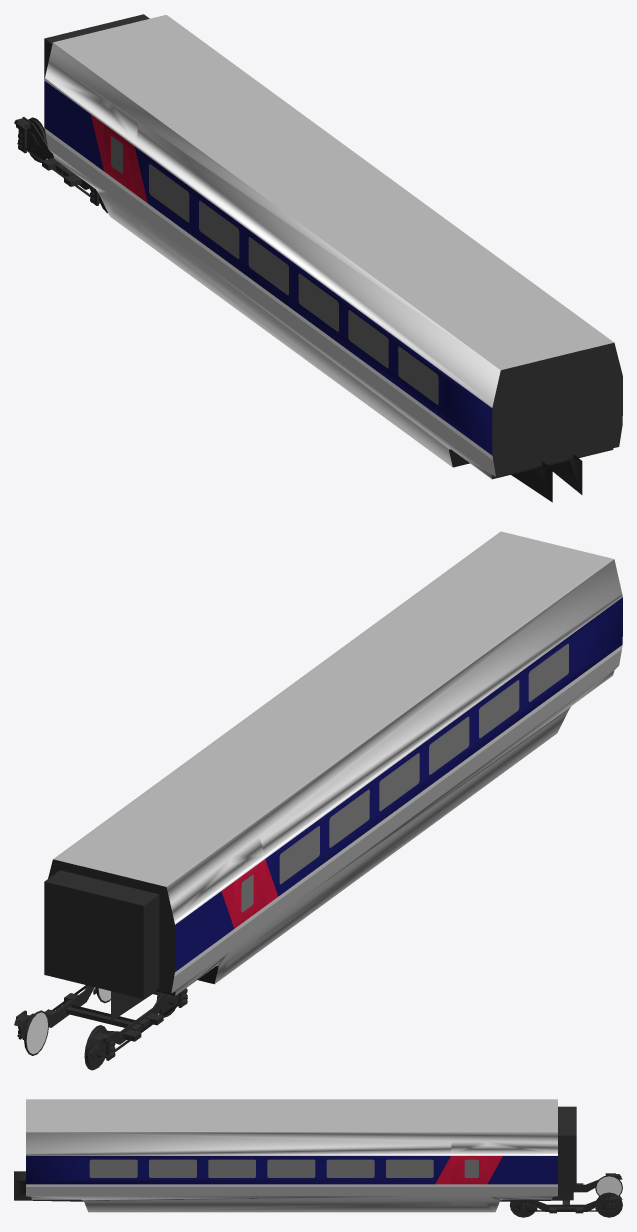
File: TGVReseau_car8.gltf
The picture shows the model from 3 angles, top to bottom: view 1: azimuth 30°, elevation 25°; view 2: azimuth 150°, elevation 25°; view 3: azimuth 270°, elevation 25°; orthographic projection. The views are drawn at different scales.
Visible parts, largest first — view 1: Group#1.001, Group#1, boogie.017; view 2: Group#1.001, Group#1, boogie.017, boogie.015; view 3: Group#1, Group#1.001, boogie.015, boogie.017.
Part boxes in pixels (bbox=[...]): Group#1.001: bbox=[44, 14, 557, 502]; Group#1: bbox=[44, 15, 622, 494]; boogie.017: bbox=[14, 117, 107, 213]; Group#1.001: bbox=[44, 545, 622, 1021]; Group#1: bbox=[48, 531, 557, 998]; boogie.017: bbox=[66, 988, 187, 1070]; boogie.015: bbox=[14, 985, 157, 1055]; Group#1: bbox=[14, 1106, 576, 1212]; Group#1.001: bbox=[14, 1099, 576, 1190]; boogie.015: bbox=[510, 1192, 622, 1217]; boogie.017: bbox=[562, 1173, 622, 1204].
Bounding box in the file's own units: 3.15 × 3.62 × 21.42.
